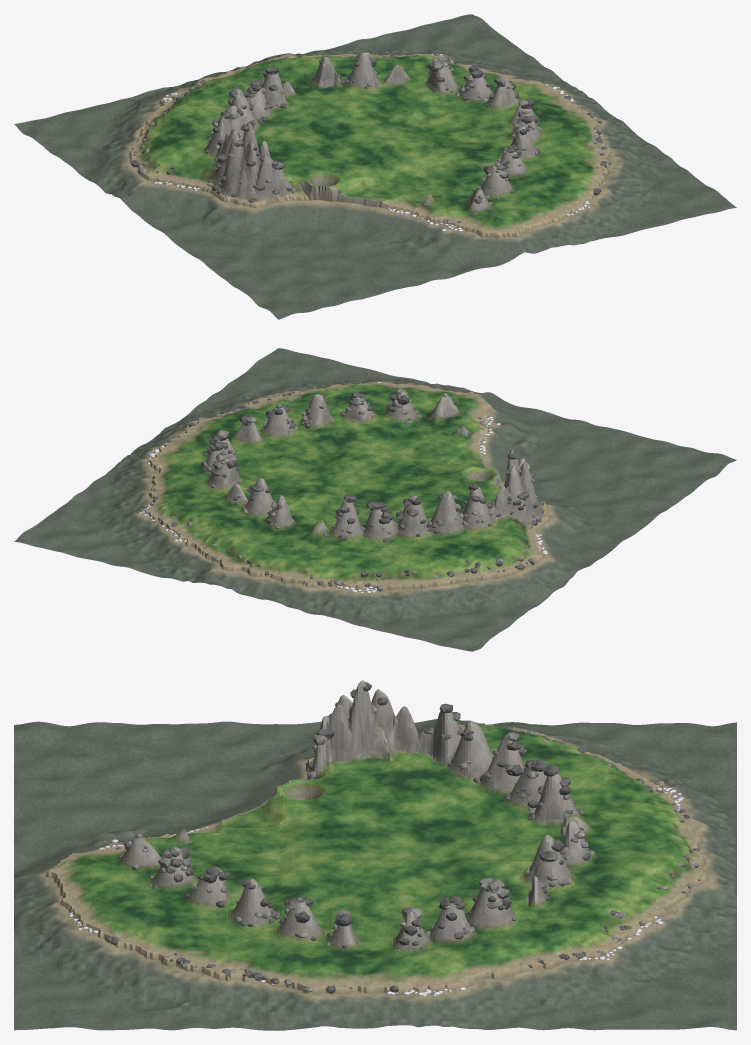
The model's file is Terrain_P2.fbx.
3 views of the same model, one above another, from view 1: azimuth 30°, elevation 25°; view 2: azimuth 150°, elevation 25°; view 3: azimuth 270°, elevation 25° (orthographic). The views are drawn at different scales.
Visible parts, largest first — view 1: Ground, Surf; view 2: Ground, Surf; view 3: Ground, Surf.
Boxes of the visible parts, x1=… form: Ground: x1=14, y1=14, x2=736, y2=319; Surf: x1=153, y1=52, x2=602, y2=231; Ground: x1=14, y1=348, x2=736, y2=651; Surf: x1=138, y1=381, x2=547, y2=593; Ground: x1=14, y1=680, x2=736, y2=1030; Surf: x1=68, y1=787, x2=683, y2=996.
Size of what is drawn, in the model's own units: 64000 by 10815 by 64000.
